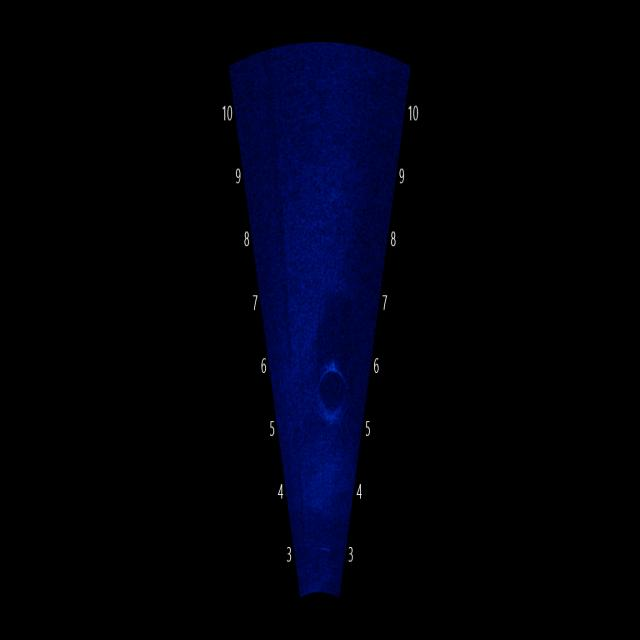circle: (309, 340, 369, 432)
